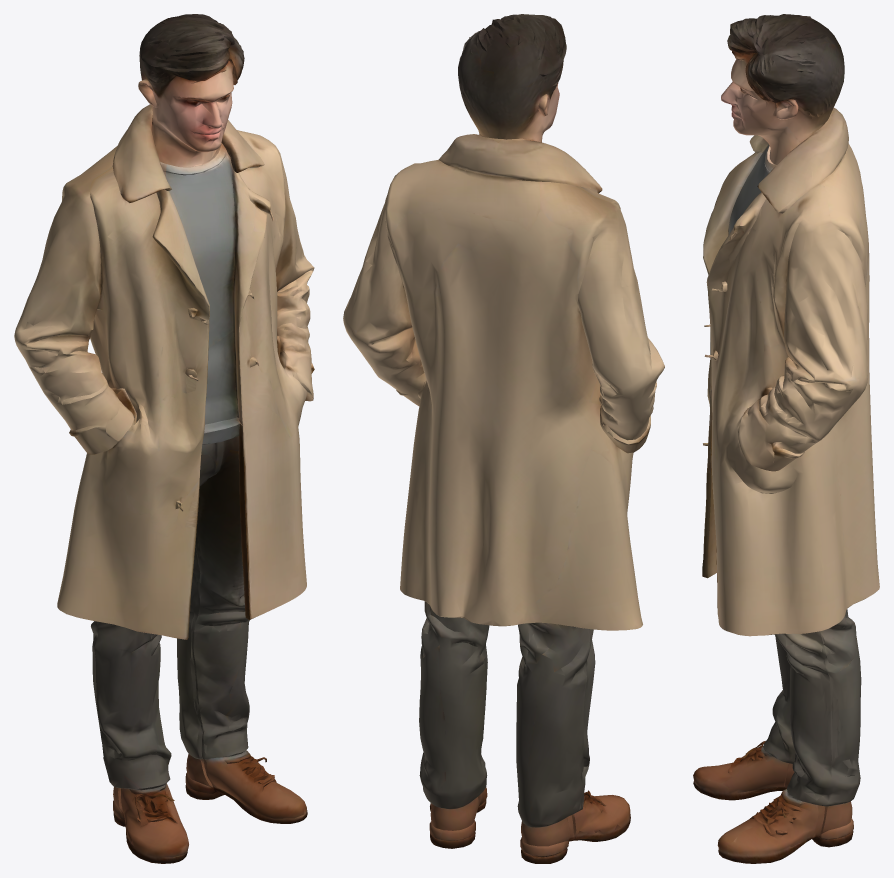
Rendered from travellerNpc.glb.
The picture shows the model from 3 angles, left to right: view 1: azimuth 30°, elevation 25°; view 2: azimuth 150°, elevation 25°; view 3: azimuth 270°, elevation 25°; orthographic projection.
Parts seen in each view (by area): view 1: model; view 2: model; view 3: model.
Part boxes in pixels (x1=…): model: x1=14, y1=14, x2=314, y2=863; model: x1=343, y1=14, x2=664, y2=863; model: x1=693, y1=14, x2=879, y2=863.
Bounding box in the file's own units: 0.7422 × 1.9 × 0.4017.
1 material, 1 textured.
